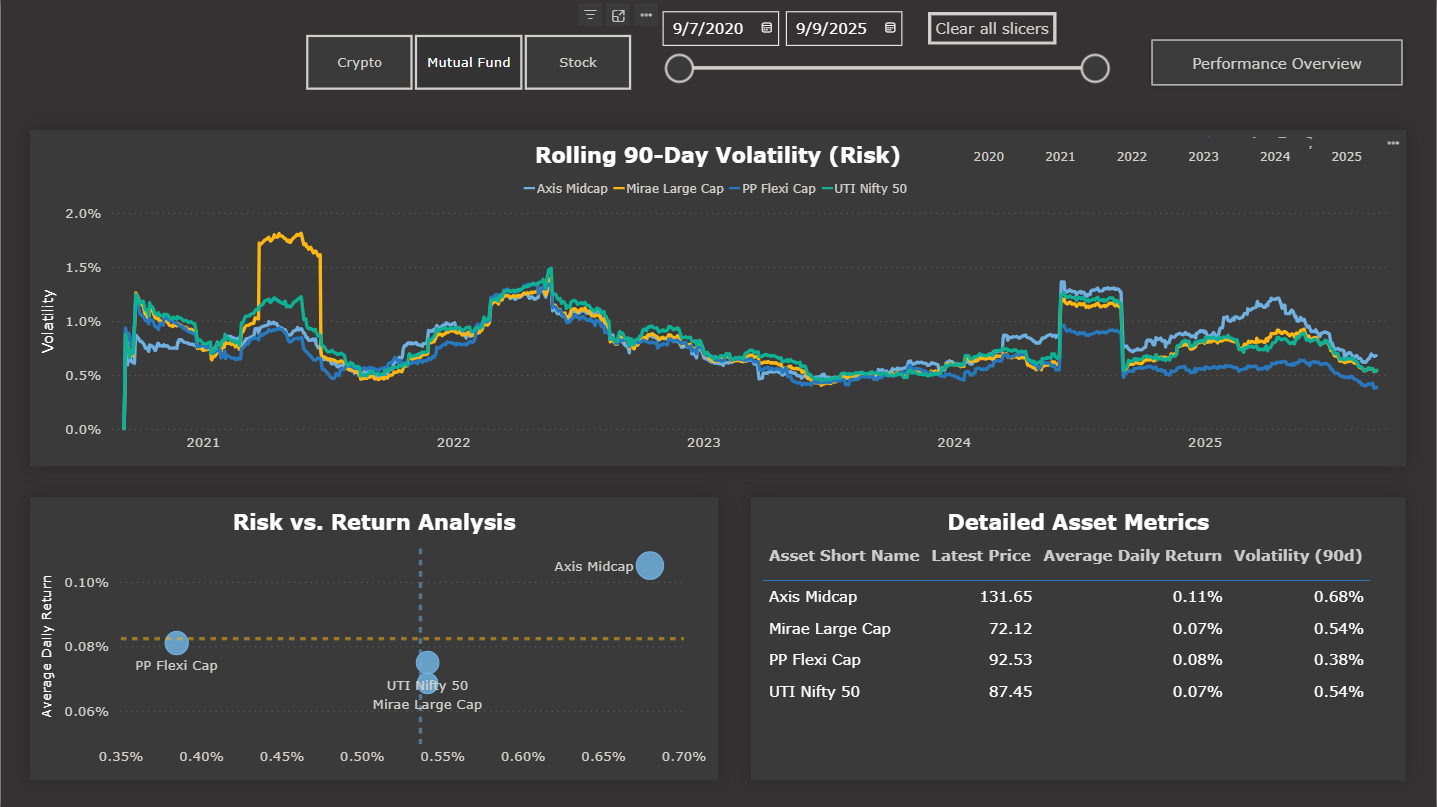

This screenshot's page, from the dashboard's own definition file:
{"tool":"powerbi","page":{"name":"Risk & Volatility Analysis","canvas":[1280,720],"ordinal":1},"visuals":[{"type":"scatterChart","title":"Risk vs. Return Analysis","fields":{"Category":["Dim_Assets.Asset Short Name"],"Size":["Tbl_Measures.Latest Price"],"X":["Tbl_Measures.Volatility (90d)"],"Y":["Tbl_Measures.Average Daily Return"]},"box":[25.8,443.6,614.2,253.3],"z":0},{"type":"lineChart","title":"Rolling 90-Day Volatility (Risk)","fields":{"Category":["Dim_Date.Date.Variation.Date Hierarchy.Year"],"Y":["Tbl_Measures.Volatility (90d)"],"Series":["Dim_Assets.Asset Short Name"]},"box":[25.8,115.6,1227.6,300.4],"z":1000,"group":"g1"},{"type":"tableEx","title":"Detailed Asset Metrics","fields":{"Values":["Dim_Assets.Asset Short Name","Tbl_Measures.Latest Price","Tbl_Measures.Average Daily Return","Tbl_Measures.Volatility (90d)"]},"box":[669.3,443.6,584,253.3],"z":1000},{"type":"group","id":"g1","title":"Group 1","box":[25.8,115.6,1229.3,300.4],"z":2000},{"type":"slicer","title":"Select Asset Class","fields":{"Values":["Fact_MarketData.Asset Class"]},"box":[246.2,24,340.4,63.1],"z":3000},{"type":"slicer","fields":{"Values":["Dim_Date.Date"]},"box":[576.9,0,420.4,87.1],"z":4000,"group":"g2"},{"type":"pageNavigator","box":[1022.2,31.1,232,49.8],"z":5000},{"type":"slicer","fields":{"Values":["Dim_Date.Year"]},"box":[824,115.6,431.1,48.9],"z":5000,"group":"g1"},{"type":"actionButton","box":[826.7,10.7,114.7,29.3],"z":6000,"group":"g2"},{"type":"group","id":"g2","title":"Group 2","box":[576.9,0,420.4,87.1],"z":6001}]}

Visuals, with their boxes in screenshot pixels (x1, y1, x2, y2), scaled from the page's 1280x720 canvas onto the 1437x807 screenshot:
"Risk vs. Return Analysis" scatterChart: box=[29, 497, 718, 781]
"Rolling 90-Day Volatility (Risk)" lineChart: box=[29, 130, 1407, 466]
"Detailed Asset Metrics" tableEx: box=[751, 497, 1407, 781]
"Group 1" group: box=[29, 130, 1409, 466]
"Select Asset Class" slicer: box=[276, 27, 659, 98]
slicer - Dim_Date.Date: box=[648, 0, 1120, 98]
pageNavigator: box=[1148, 35, 1408, 91]
slicer - Dim_Date.Year: box=[925, 130, 1409, 184]
actionButton: box=[928, 12, 1057, 45]
"Group 2" group: box=[648, 0, 1120, 98]
